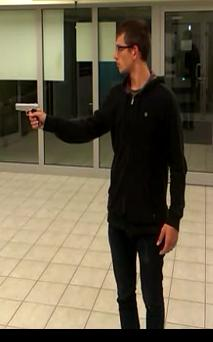pistol: (13, 100, 44, 130)
